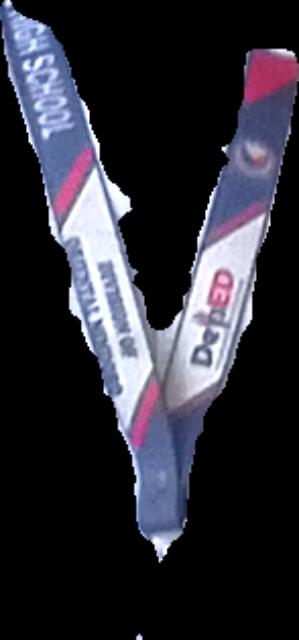id lace: (0, 0, 298, 562)
